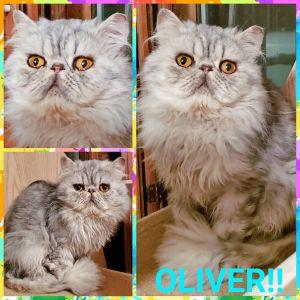persian: (140, 6, 269, 137)
